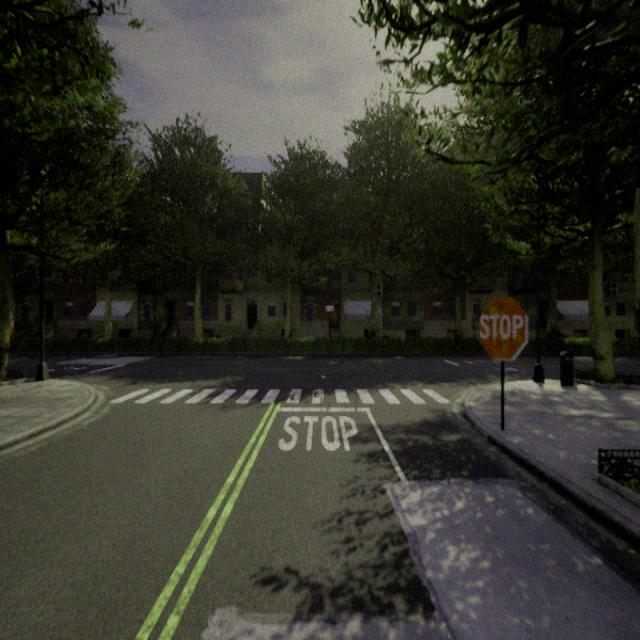stop sign: (476, 293, 530, 364), (478, 312, 525, 342)
